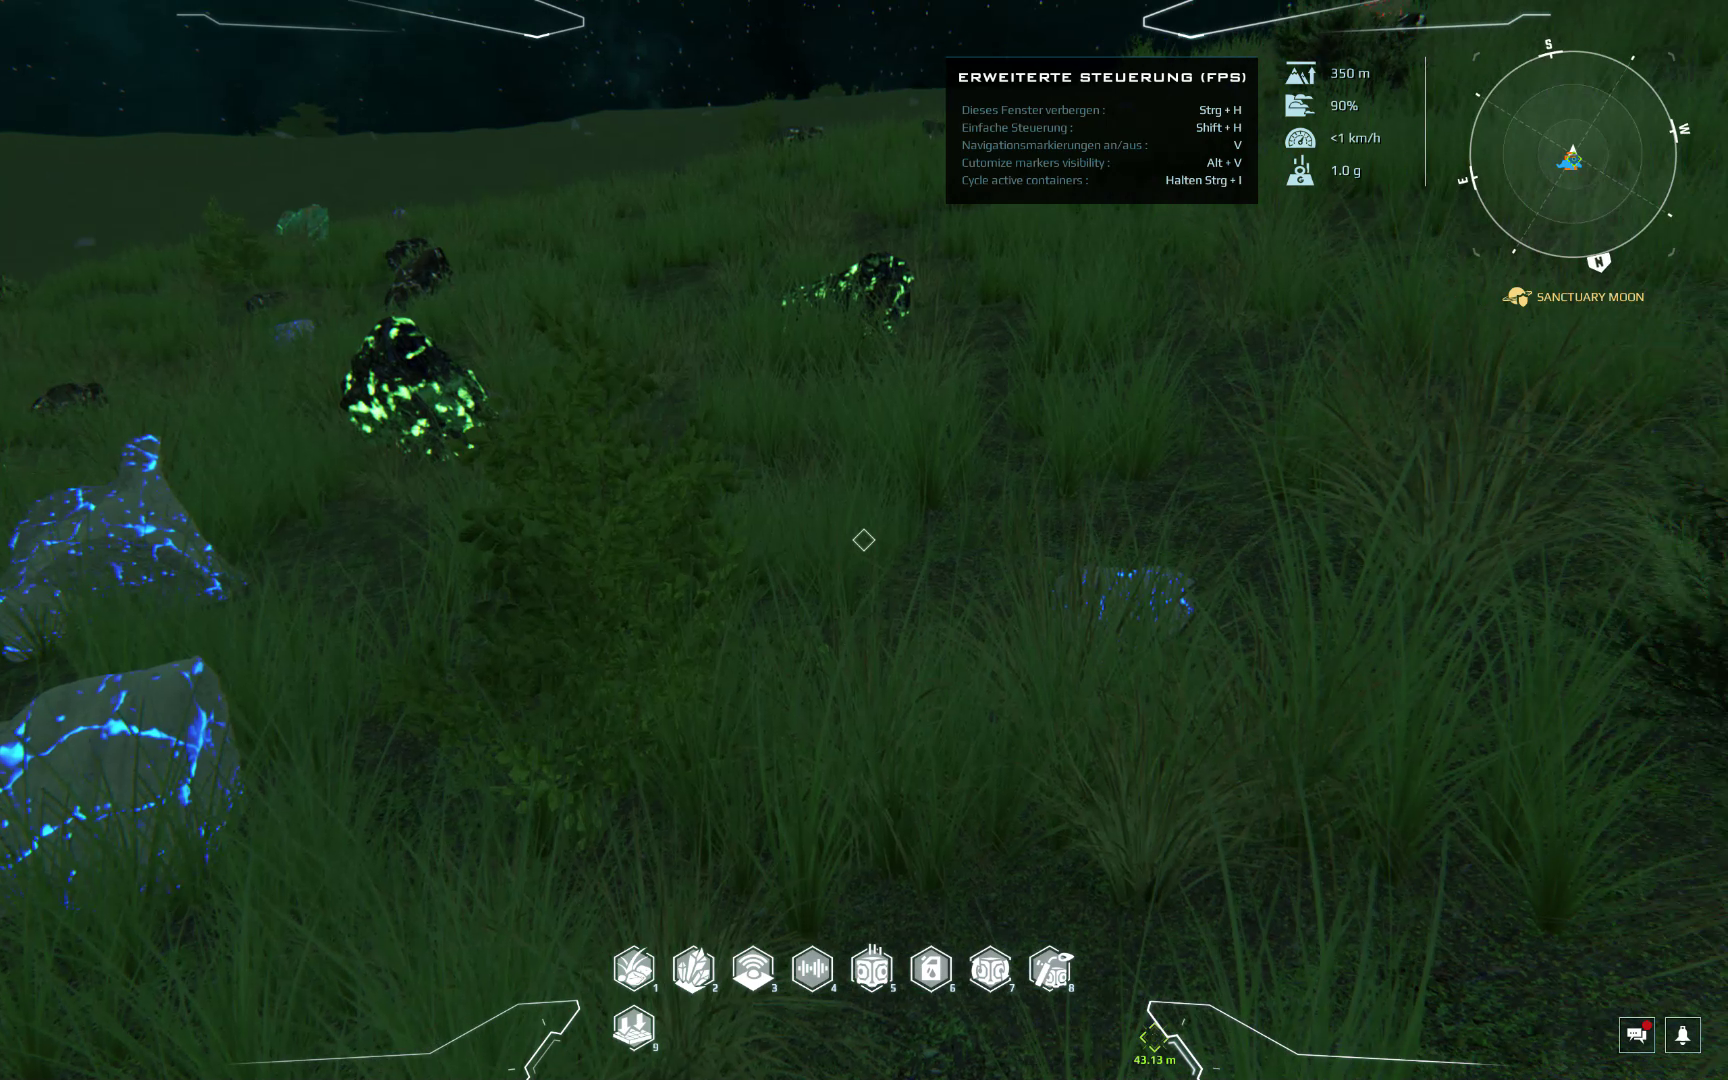Ore: (1, 654, 258, 910), (1, 431, 251, 664), (335, 312, 499, 469), (1043, 547, 1205, 647), (778, 243, 922, 340), (381, 241, 452, 309), (29, 375, 109, 418), (374, 225, 425, 268), (265, 316, 317, 350), (241, 282, 289, 315)
